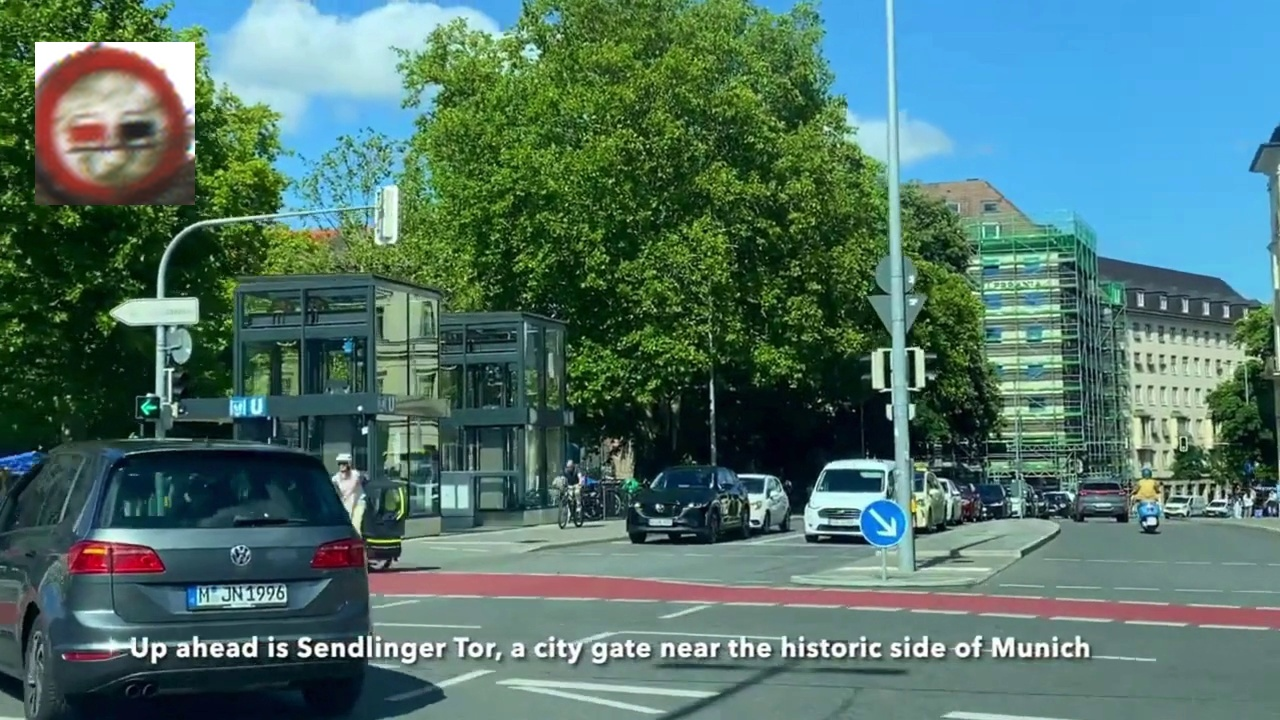No passing: (35, 42, 195, 205)
